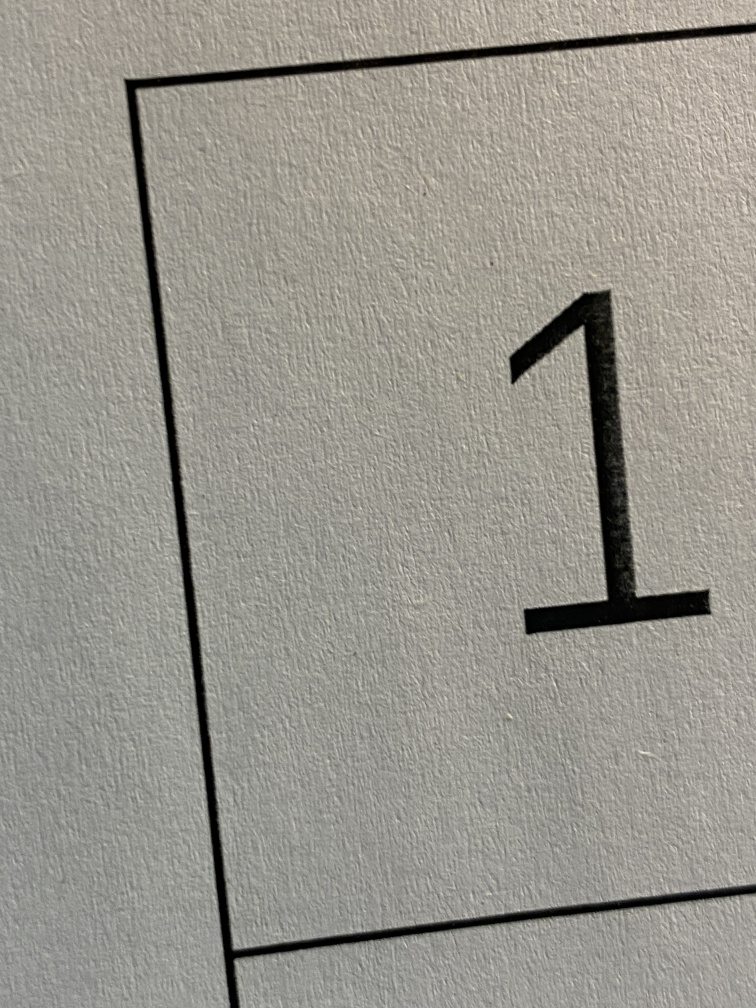one: (465, 242, 737, 719)
